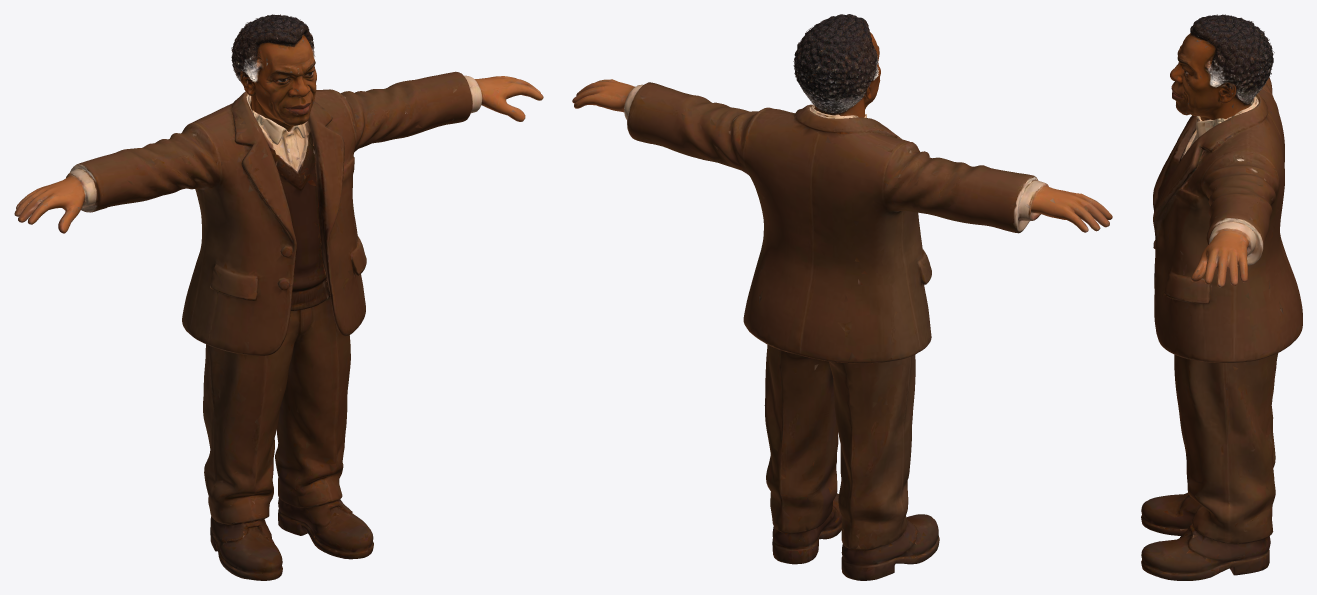
The model's file is milton.glb.
3 renders of one model, left to right at view 1: azimuth 30°, elevation 25°; view 2: azimuth 150°, elevation 25°; view 3: azimuth 270°, elevation 25°, orthographic. The views are drawn at different scales.
Visible parts, largest first — view 1: Corpo Milton Santos, Cabeça Milton Santos; view 2: Corpo Milton Santos, Cabeça Milton Santos; view 3: Corpo Milton Santos, Cabeça Milton Santos.
Boxes of the visible parts, box(x1,y1,x2,y2) form: Corpo Milton Santos: box(14, 71, 543, 580); Cabeça Milton Santos: box(231, 14, 316, 131); Corpo Milton Santos: box(572, 79, 1112, 580); Cabeça Milton Santos: box(793, 14, 880, 117); Corpo Milton Santos: box(1141, 77, 1302, 580); Cabeça Milton Santos: box(1170, 14, 1274, 120).
Bounding box in the file's own units: 1.91 × 1.84 × 0.5088.
3 materials, 2 textured.
